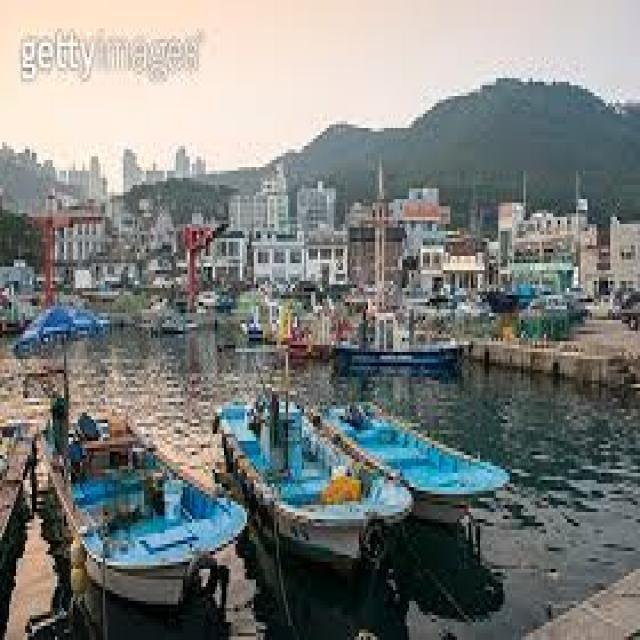Ship: (26, 346, 257, 609), (209, 360, 417, 566), (330, 371, 522, 556)
